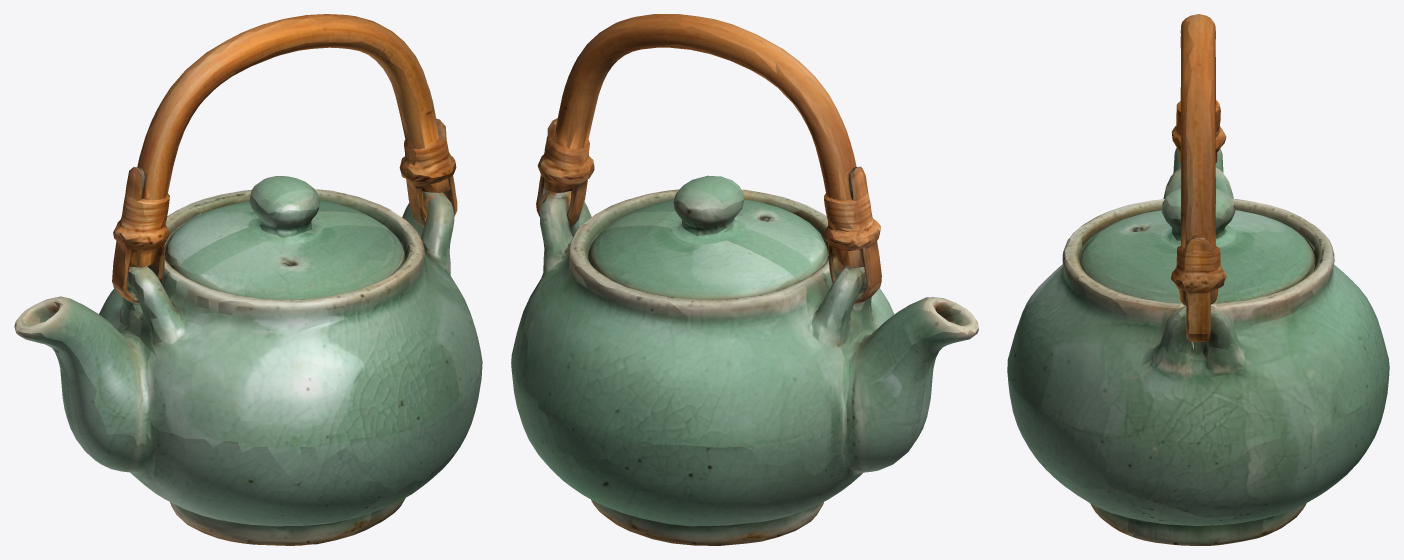
Rendered from model_glb.glb.
3 renders of one model, left to right at view 1: azimuth 30°, elevation 25°; view 2: azimuth 150°, elevation 25°; view 3: azimuth 270°, elevation 25°, orthographic. The views are drawn at different scales.
Visible parts, largest first — view 1: geometry_0; view 2: geometry_0; view 3: geometry_0.
Part boxes in pixels (left/top/right/bottom): geometry_0: left=14, top=14, right=482, bottom=545; geometry_0: left=511, top=14, right=978, bottom=545; geometry_0: left=1007, top=14, right=1389, bottom=545.
Size of the model in its own units: 0.1823 by 0.19 by 0.1413.
Materials: 1 (1 with a texture image).
